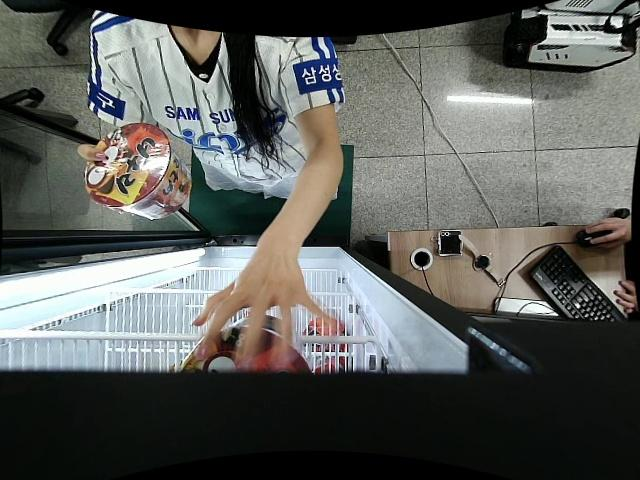00_hand: (191, 250, 341, 376), (76, 143, 109, 166)
05_nuguri_L: (85, 122, 191, 221), (180, 312, 316, 375)
